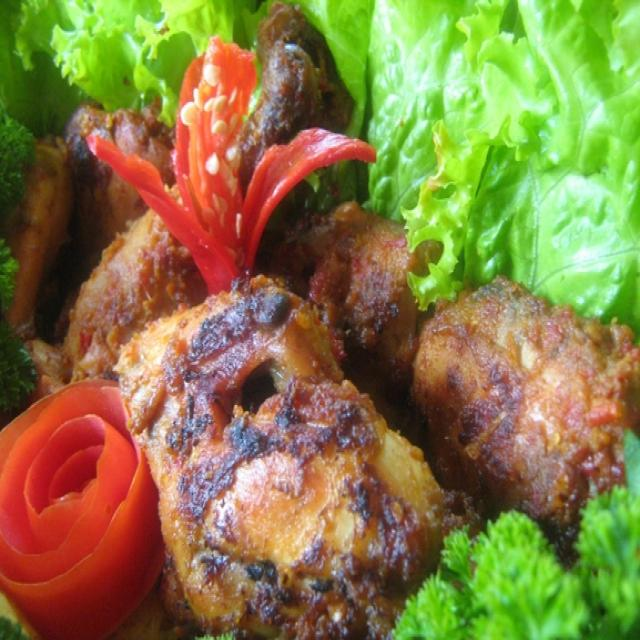鸡肉料理 含炸鸡: (35, 41, 618, 612)
